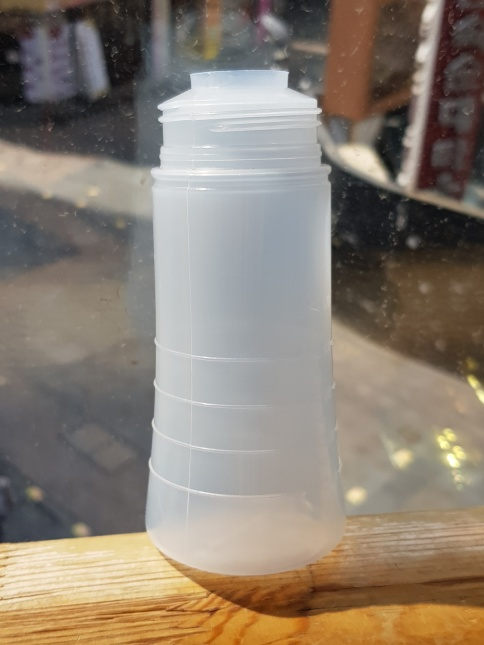Plastic: (137, 61, 352, 582)
